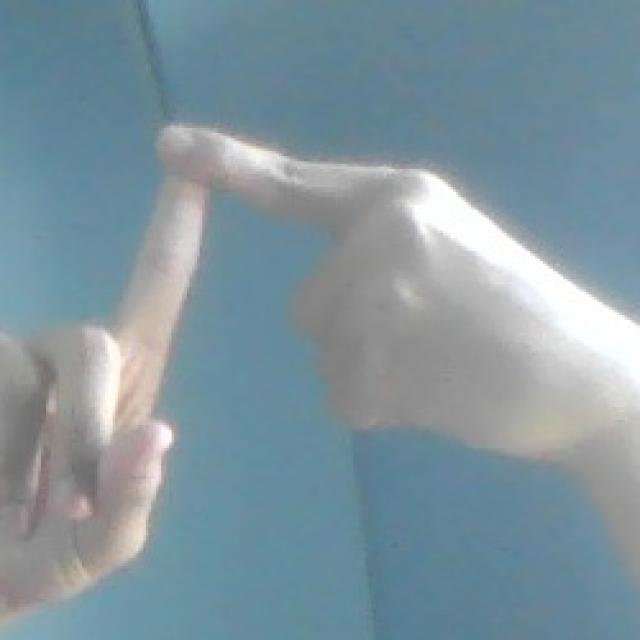Alphabet-E: (0, 125, 640, 640)
